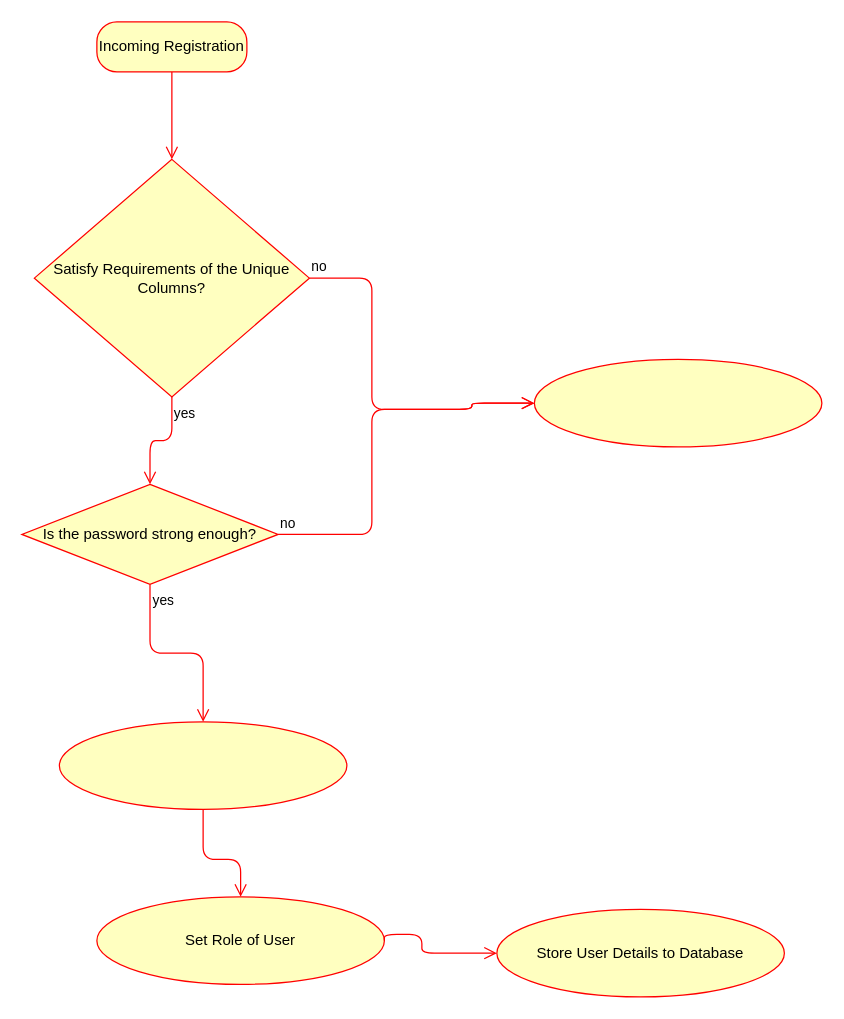
Some shapes in this 844 by 1019 pixel diagram are drawn without their labels. Each missing label, with the box of its shape:
Create New User using given DTO Hash the Password: (58, 721, 347, 809)
Reject Registration: (533, 358, 822, 447)
